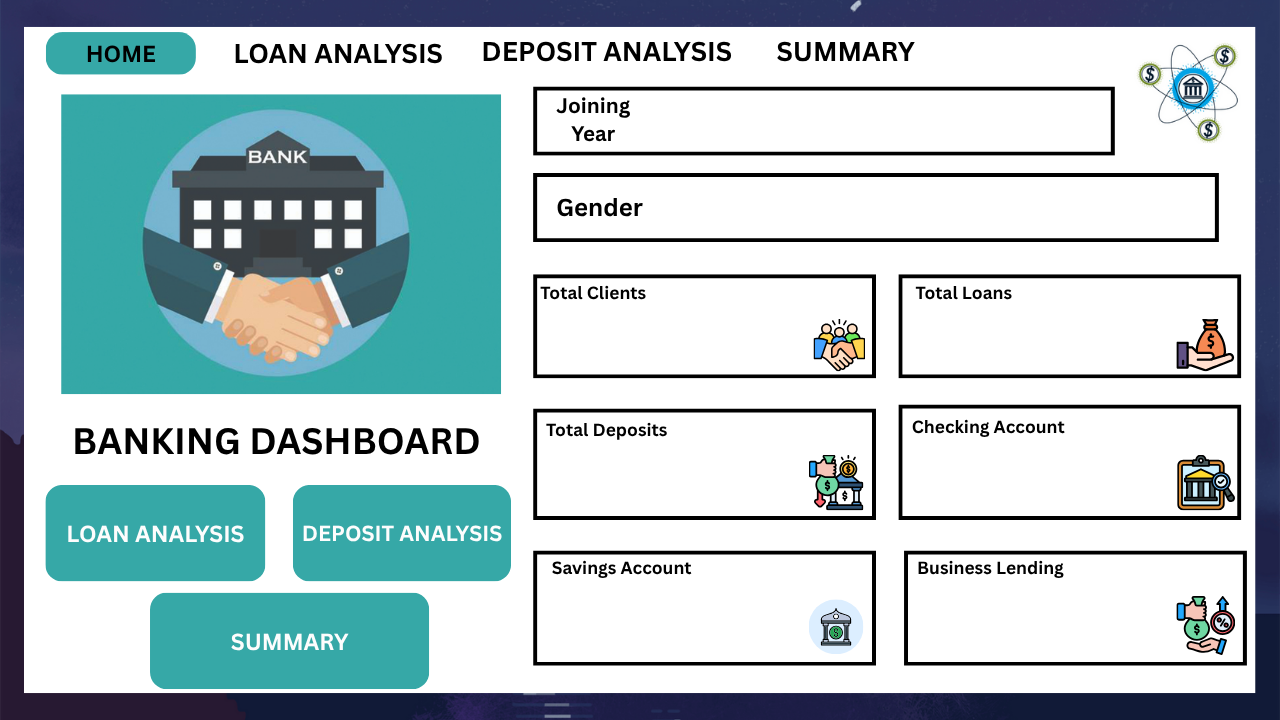

Layout of this report page (visuals, bound fields, positions):
{"tool":"powerbi","page":{"name":"Home_Page","canvas":[1280,720],"ordinal":0},"visuals":[{"type":"card","fields":{"Values":["banking-clients.Name"]},"box":[610.4,294.2,147.1,72.9],"z":0},{"type":"slicer","fields":{"Values":["banking-clients.GenderId"]},"box":[665.4,180.1,541.7,56.4],"z":1000},{"type":"card","fields":{"Values":["banking-clients.Total Loans"]},"box":[925.3,306.6,221.4,60.5],"z":2000},{"type":"card","fields":{"Values":["banking-clients.Total Deposits"]},"box":[573.3,444.1,222.7,64.6],"z":3000},{"type":"card","fields":{"Values":["banking-clients.Checking Accounts"]},"box":[912.9,444.1,247.5,64.6],"z":4000},{"type":"card","fields":{"Values":["banking-clients.Saving Accounts"]},"box":[543.1,581.6,262.6,63.2],"z":5000},{"type":"card","fields":{"Values":["banking-clients.Business Lending"]},"box":[928,581.6,218.6,63.2],"z":6000},{"type":"slicer","fields":{"Values":["banking-clients.Year"]},"box":[640.7,97.6,463.3,48.1],"z":7000},{"type":"actionButton","box":[52.6,496.6,208.9,73.6],"z":8000},{"type":"actionButton","box":[294.3,496.6,212.8,73.6],"z":9000},{"type":"actionButton","box":[157.7,597.8,264.1,86.7],"z":10000},{"type":"actionButton","box":[224.1,33,224.1,39.9],"z":11000},{"type":"actionButton","box":[473,33,269.5,39.9],"z":12000},{"type":"actionButton","box":[772.7,33,152.6,39.9],"z":13000}]}

Visuals, with their boxes in screenshot pixels (x1, y1, x2, y2), scaled from the page's 1280x720 canvas onto the 1280x720 screenshot:
card - banking-clients.Name: detection(610, 294, 758, 367)
slicer - banking-clients.GenderId: detection(665, 180, 1207, 236)
card - banking-clients.Total Loans: detection(925, 307, 1147, 367)
card - banking-clients.Total Deposits: detection(573, 444, 796, 509)
card - banking-clients.Checking Accounts: detection(913, 444, 1160, 509)
card - banking-clients.Saving Accounts: detection(543, 582, 806, 645)
card - banking-clients.Business Lending: detection(928, 582, 1147, 645)
slicer - banking-clients.Year: detection(641, 98, 1104, 146)
actionButton: detection(53, 497, 262, 570)
actionButton: detection(294, 497, 507, 570)
actionButton: detection(158, 598, 422, 684)
actionButton: detection(224, 33, 448, 73)
actionButton: detection(473, 33, 742, 73)
actionButton: detection(773, 33, 925, 73)
